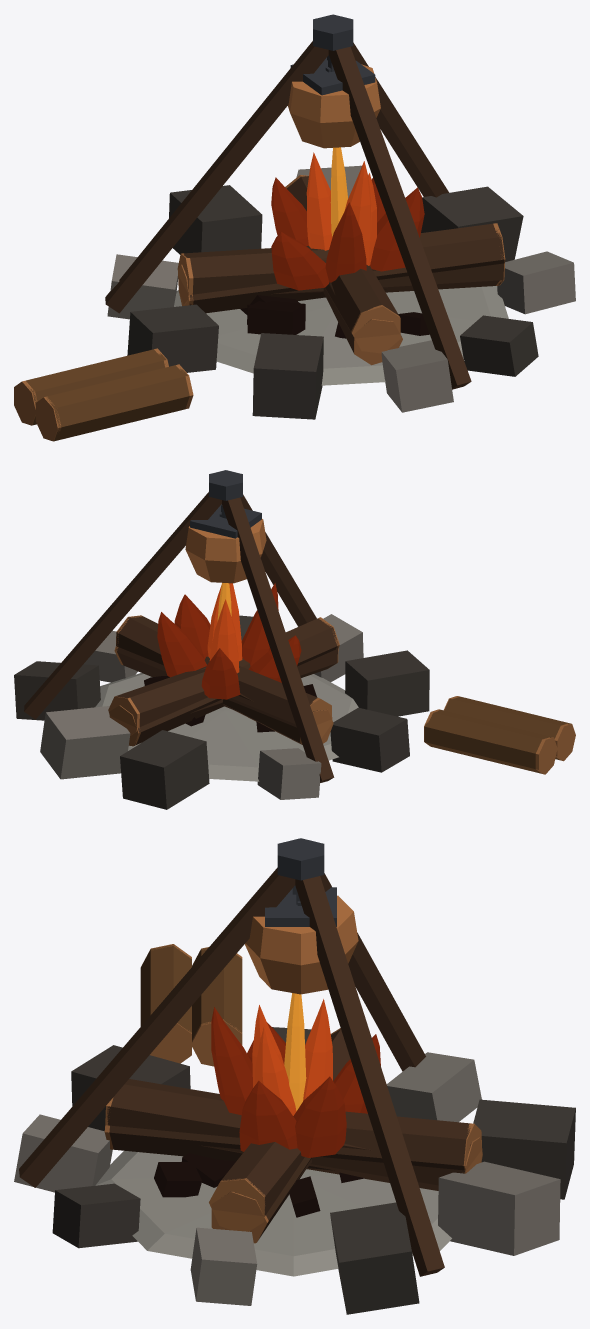
The picture shows the model from 3 angles, top to bottom: view 1: azimuth 30°, elevation 25°; view 2: azimuth 150°, elevation 25°; view 3: azimuth 270°, elevation 25°; orthographic projection. The views are drawn at different scales.
Visible parts, largest first — view 1: CF-主体, CF-自发光; view 2: CF-主体, CF-自发光; view 3: CF-主体, CF-自发光.
Boxes of the visible parts, x1,y1,x2,y2 form: CF-主体: (14,14,575,441); CF-自发光: (240,147,429,338); CF-主体: (14,470,575,809); CF-自发光: (144,583,316,732); CF-主体: (14,838,575,1314); CF-自发光: (154,993,380,1217).
Size of the model in its own units: 2.05 by 1.08 by 1.56.
2 materials, 2 textured.
